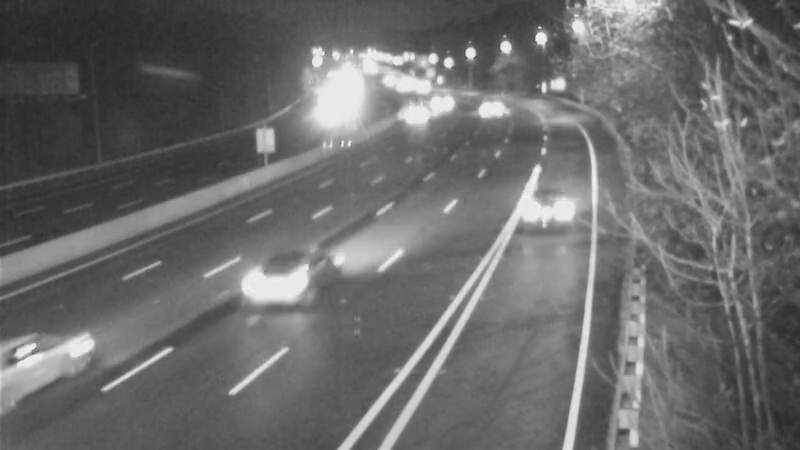vehicle: (1, 311, 93, 421), (512, 179, 592, 259), (233, 246, 313, 326), (416, 77, 466, 127), (461, 77, 511, 127), (383, 90, 433, 140)
